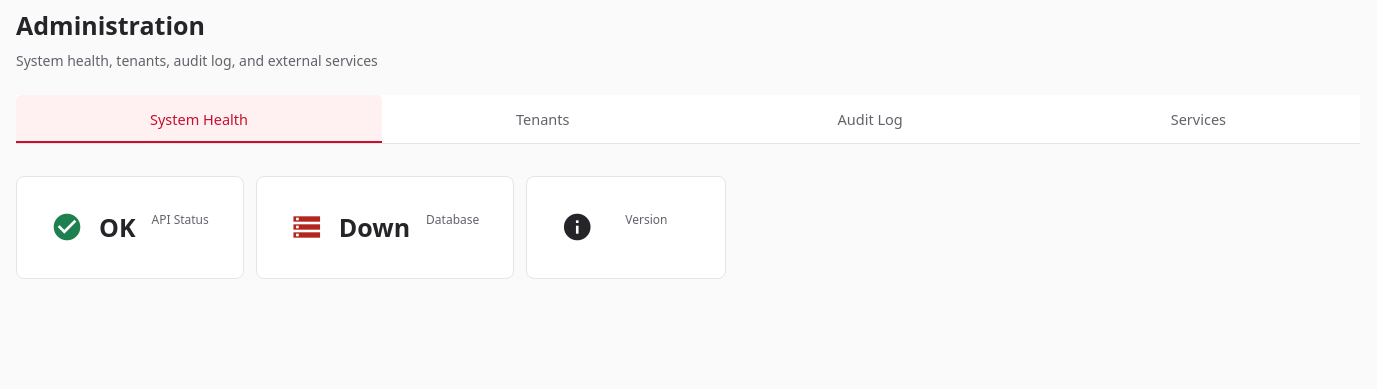
it: AdminComponent › hides New Tenant from an admin who is not the platform administrator, and says why
This screenshot has width=1377, height=389.
Click the tab "Tenants": x=543, y=119 x1=516 y1=109 x2=570 y2=129
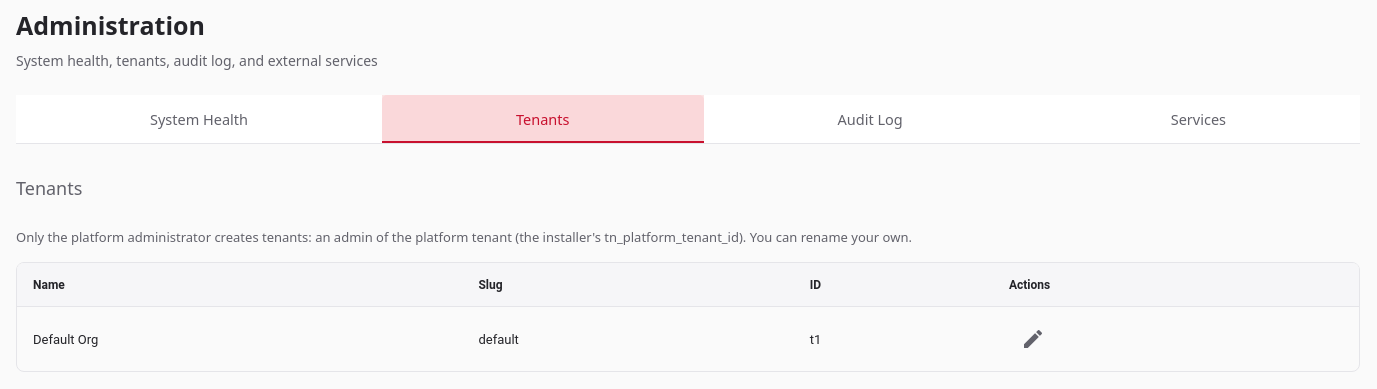
Result: the text "Only the platform administrator creates tenants" is shown at x1=16 y1=228 x2=912 y2=246
